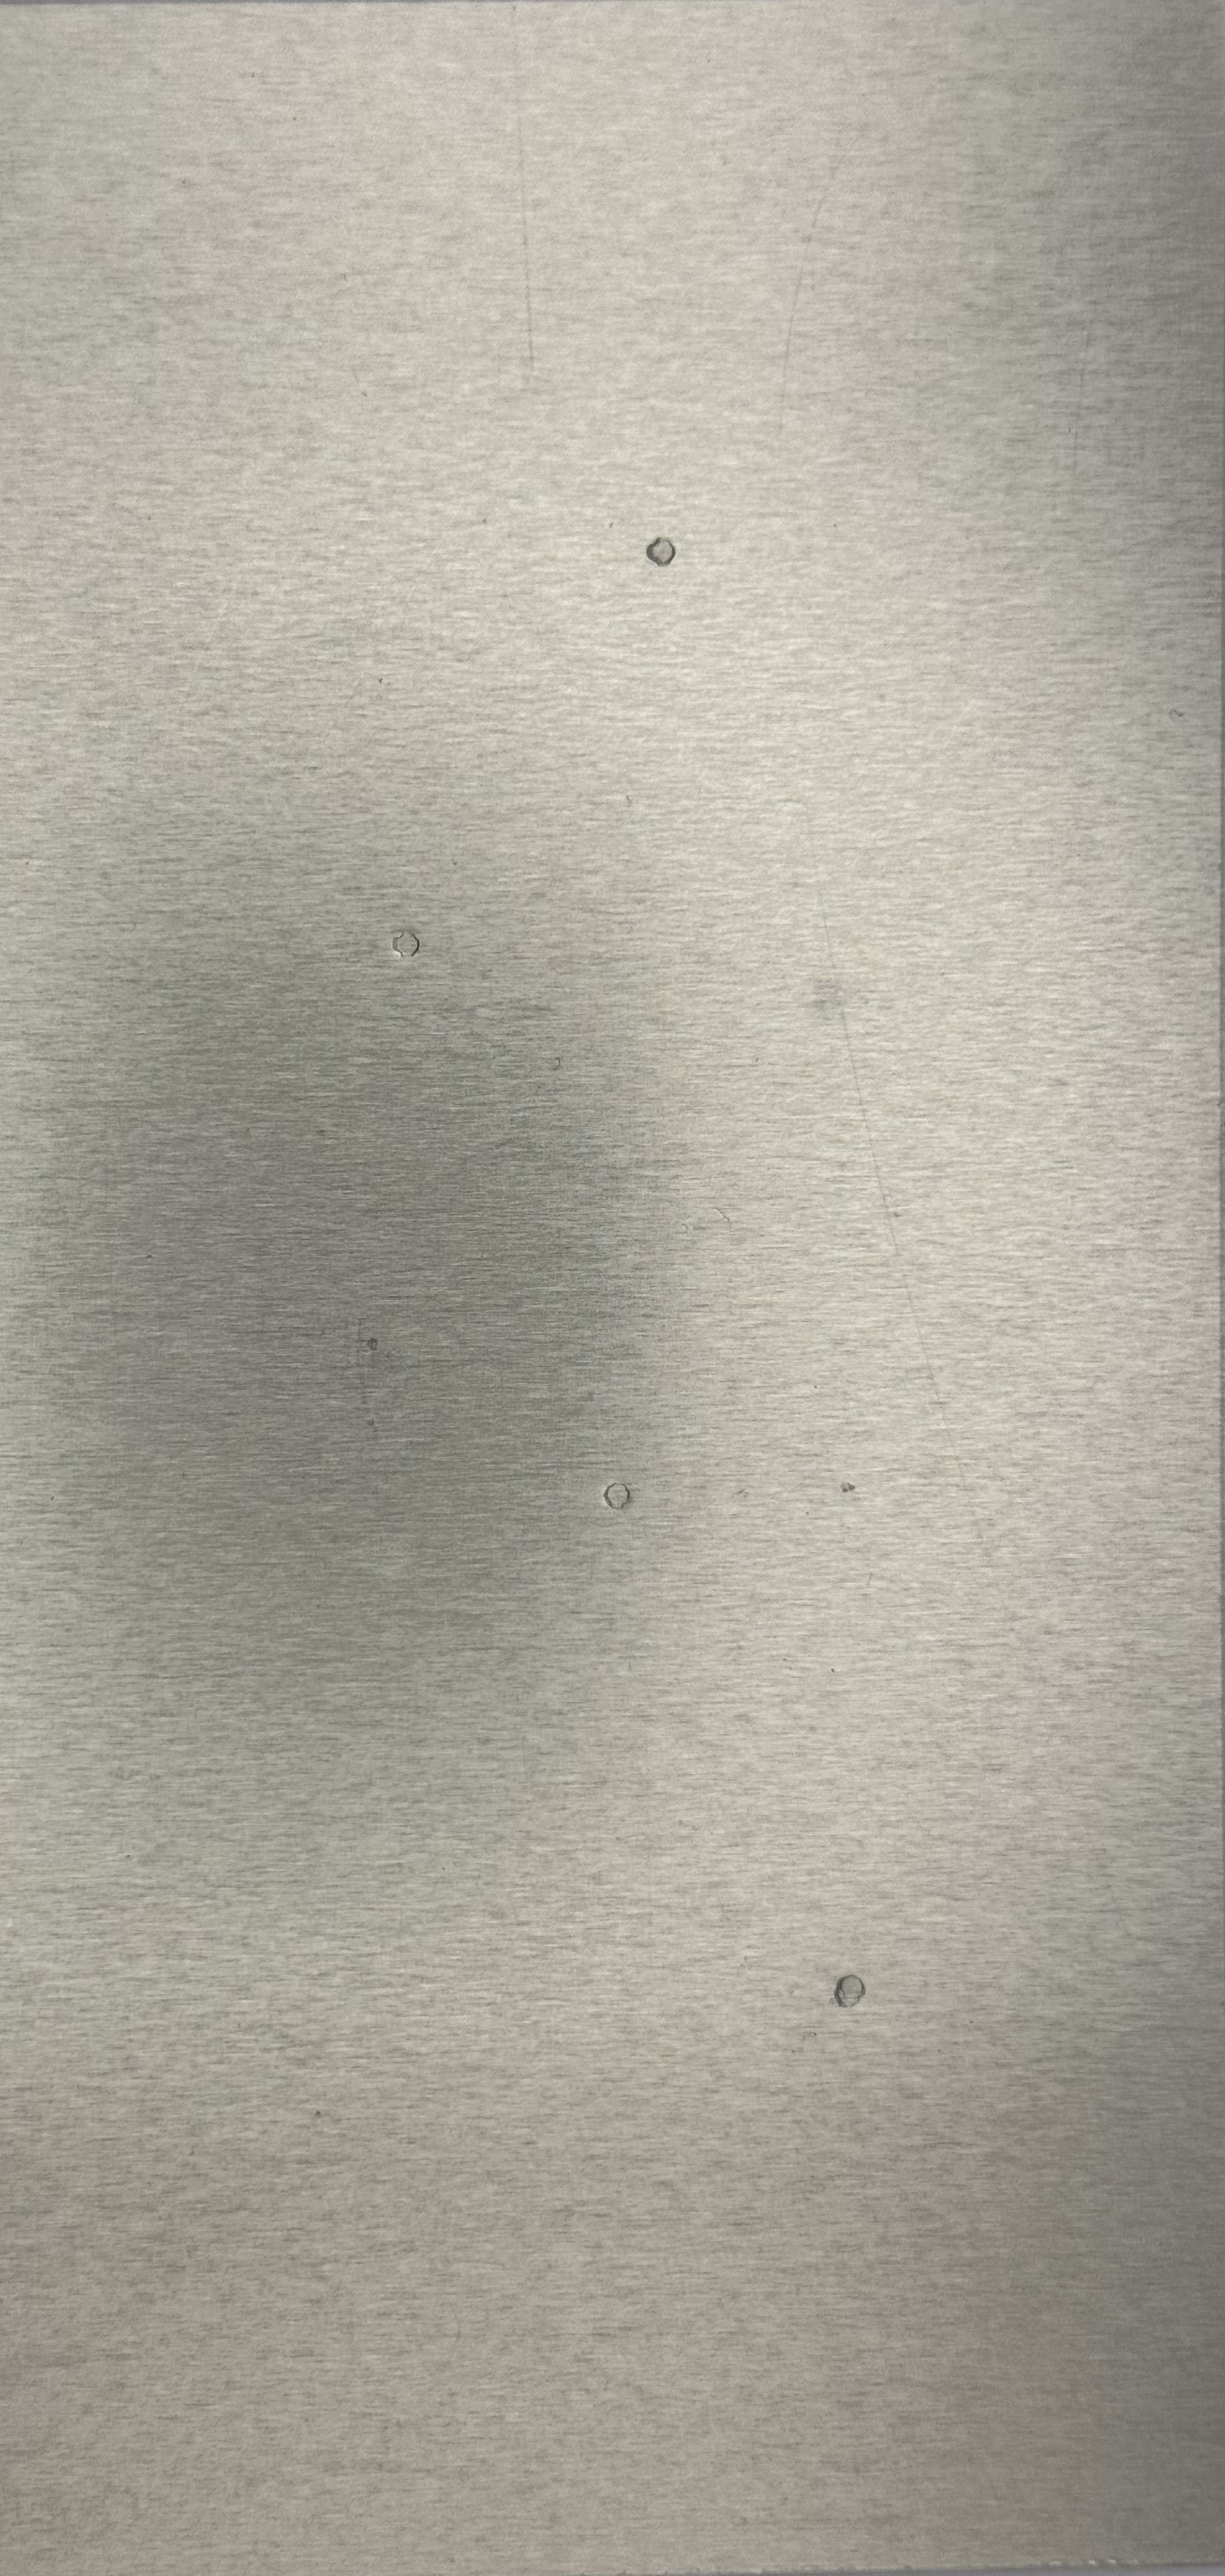Delle: (778, 959, 890, 1046), (365, 910, 442, 976), (580, 1464, 652, 1526), (634, 529, 703, 593), (821, 1966, 882, 2022)
